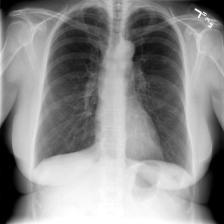normal: (29, 0, 201, 185)
